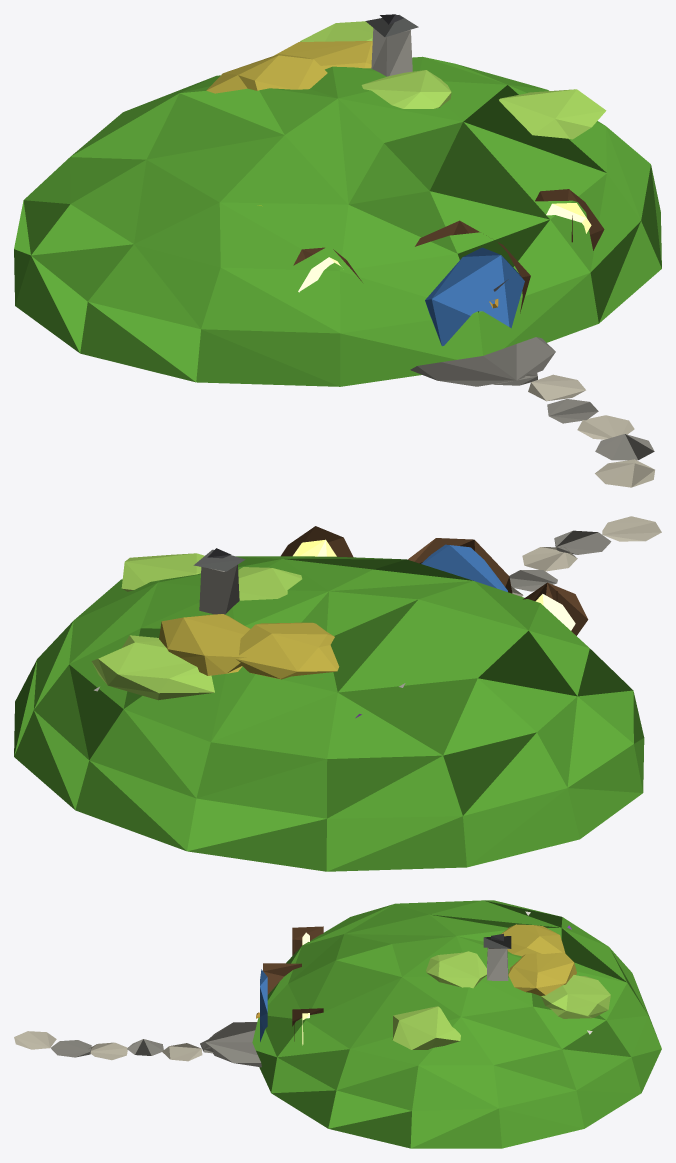
Rendered from hobbit_hole_4_lod1.glb.
The picture shows the model from 3 angles, top to bottom: view 1: azimuth 30°, elevation 25°; view 2: azimuth 150°, elevation 25°; view 3: azimuth 270°, elevation 25°; orthographic projection. The views are drawn at different scales.
Visible parts, largest first — view 1: hobbit_hole_4_lod1; view 2: hobbit_hole_4_lod1; view 3: hobbit_hole_4_lod1.
Part boxes in pixels (bbox=[...]): hobbit_hole_4_lod1: bbox=[14, 14, 661, 487]; hobbit_hole_4_lod1: bbox=[14, 516, 661, 871]; hobbit_hole_4_lod1: bbox=[14, 900, 661, 1148].
Size of the model in its own units: 12.09 by 3.99 by 16.61.
